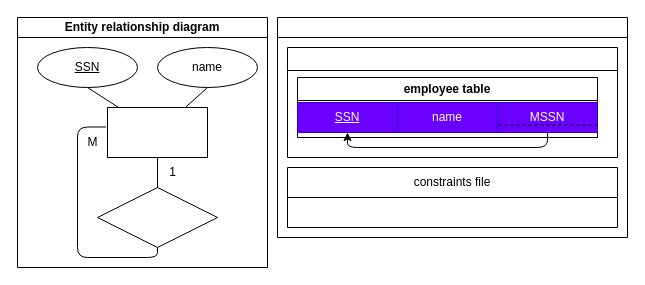
This 645x285 diagram has some shape labels left out. The box of each missing label's shape, as (x1, y1, x2, y2) in pixels:
DB Mapping: (276, 16, 628, 238)
employee: (106, 106, 208, 158)
manage: (96, 186, 218, 248)
Mapping: (286, 46, 618, 158)
